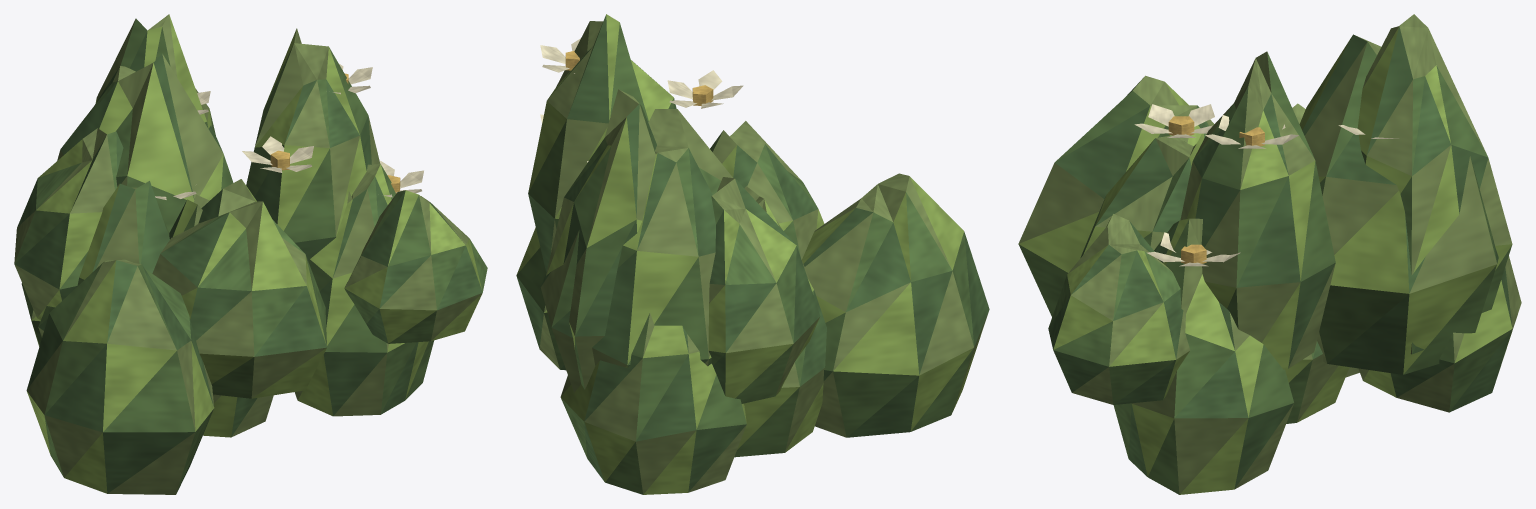
File: bush_flowering_02.fbx
3 renders of one model, left to right at view 1: azimuth 30°, elevation 25°; view 2: azimuth 150°, elevation 25°; view 3: azimuth 270°, elevation 25°, orthographic. The views are drawn at different scales.
Visible parts, largest first — view 1: bush_flowering_02; view 2: bush_flowering_02; view 3: bush_flowering_02.
Boxes of the visible parts, x1,y1,x2,y2 form: bush_flowering_02: (14, 14, 487, 494); bush_flowering_02: (516, 14, 989, 494); bush_flowering_02: (1018, 14, 1521, 494).
Size of the model in its own units: 156 by 125 by 142.
1 material, 1 textured.
